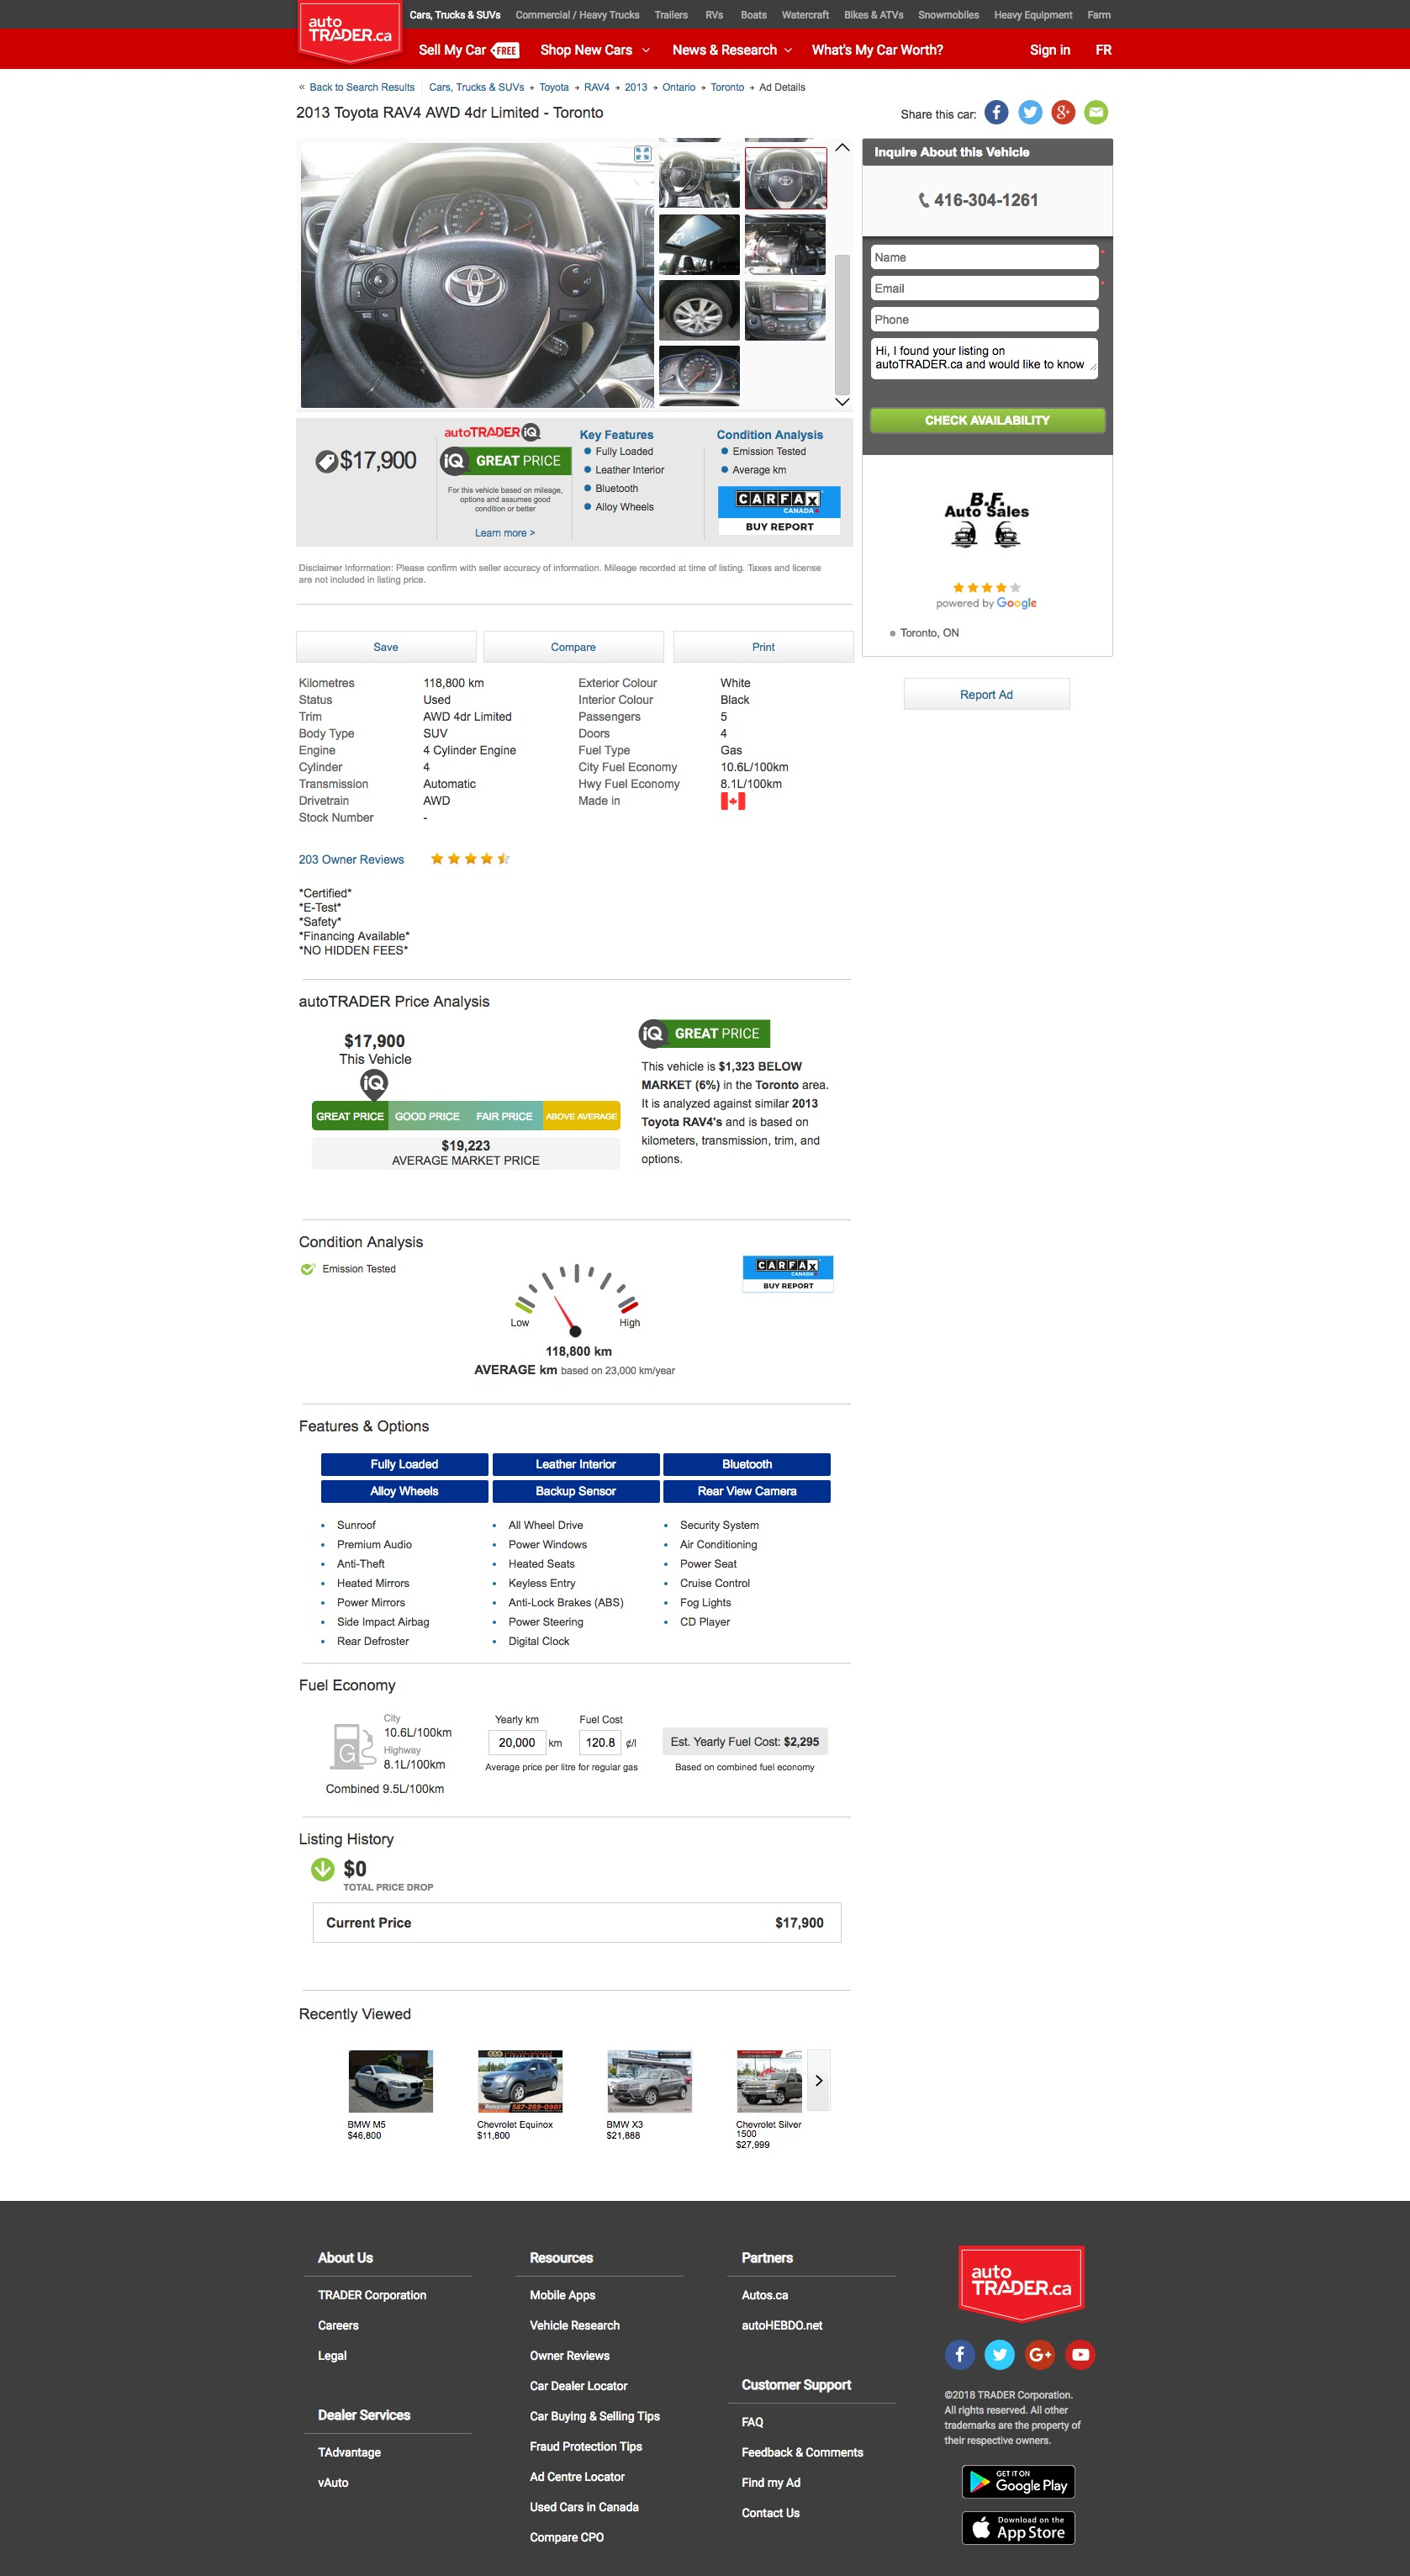car: (835, 398, 851, 408)
